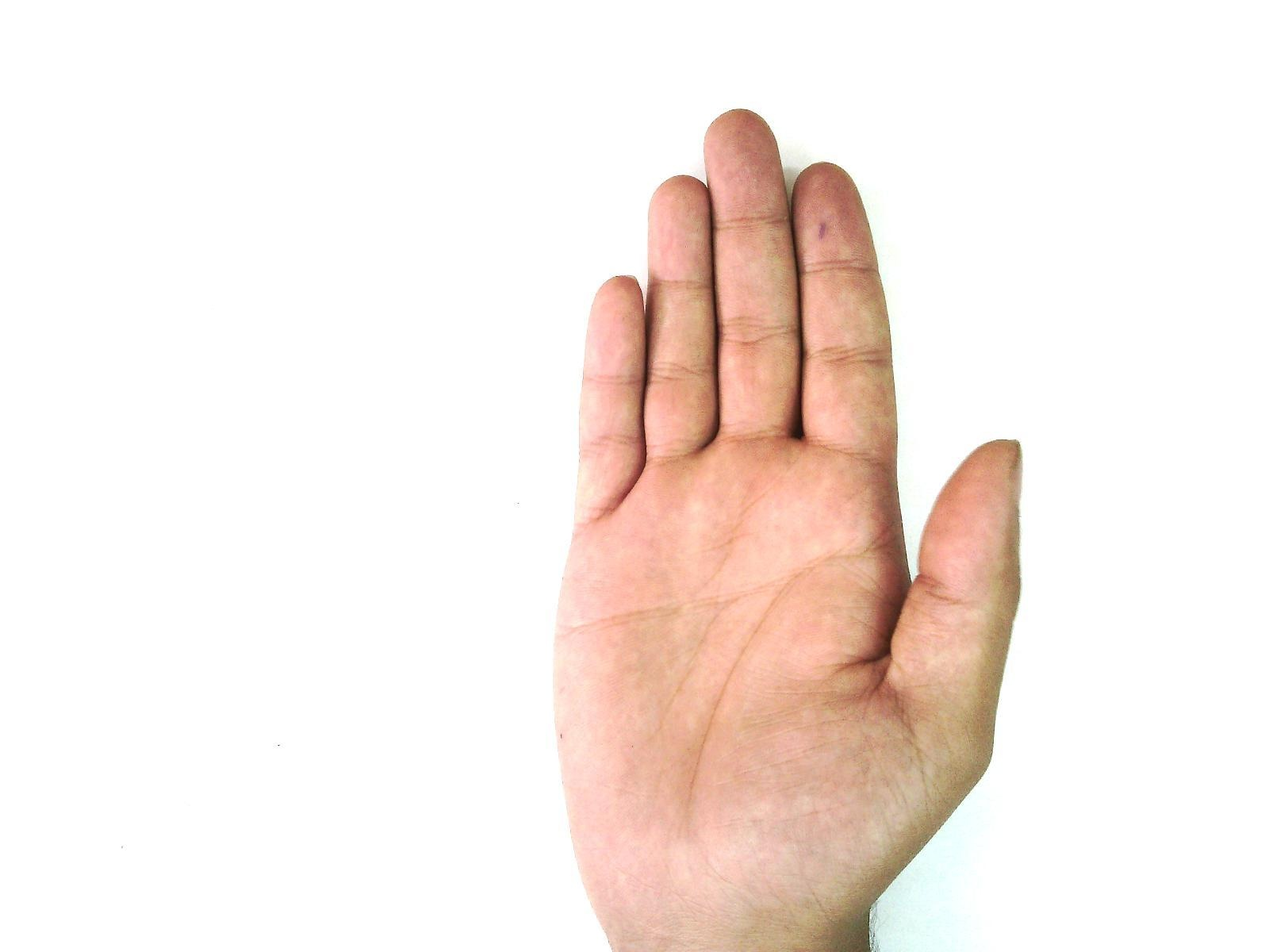open_palm: (549, 107, 1026, 950)
